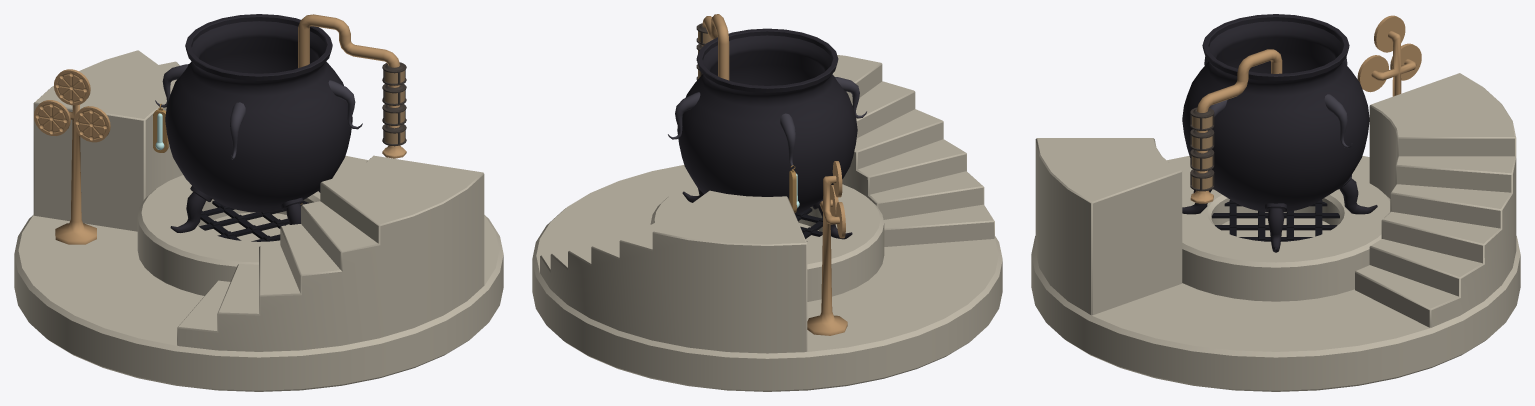
Rendered from Cauldron.fbx.
The picture shows the model from 3 angles, left to right: view 1: azimuth 30°, elevation 25°; view 2: azimuth 150°, elevation 25°; view 3: azimuth 270°, elevation 25°; orthographic projection. The views are drawn at different scales.
Visible parts, largest first — view 1: Stairs_1, BigPedestal, Cauldron, Stairs_2, SmallPedestal, Tube, Temperature_Circle_bottom, Temepature stand, Grid, Temperature_Circle_top, Rotate_1, Rotate_2 (+3 smaller); view 2: BigPedestal, Stairs_2, Cauldron, Stairs_1, SmallPedestal, Temepature stand, Tube, Temperature_Circle_bottom, Grid; view 3: BigPedestal, Stairs_2, Cauldron, Stairs_1, SmallPedestal, Grid, Tube, Temperature_Circle_bottom, Temepature stand, Temperature_Circle_top, Rotate_1, Rotate_3 (+2 smaller).
Boxes of the visible parts, box(x1,y1,x2,y2) form: Stairs_1: box(177, 155, 484, 351); BigPedestal: box(14, 155, 503, 391); Cauldron: box(155, 14, 362, 232); Stairs_2: box(33, 50, 182, 231); SmallPedestal: box(137, 175, 338, 295); Tube: box(298, 14, 406, 158); Temperature_Circle_bottom: box(34, 100, 110, 142); Temepature stand: box(55, 104, 96, 244); Grid: box(199, 200, 308, 241); Temperature_Circle_top: box(54, 69, 90, 105); Rotate_1: box(382, 62, 406, 85); Rotate_2: box(382, 84, 406, 105); BigPedestal: box(532, 165, 1002, 391); Stairs_2: box(540, 190, 807, 353); Cauldron: box(668, 28, 866, 239); Stairs_1: box(832, 55, 994, 246); SmallPedestal: box(650, 183, 884, 301); Temepature stand: box(807, 175, 847, 335); Tube: box(702, 14, 729, 80); Temperature_Circle_bottom: box(830, 185, 845, 238); Grid: box(795, 208, 822, 241); BigPedestal: box(1031, 156, 1520, 391); Stairs_2: box(1355, 73, 1516, 327); Cauldron: box(1182, 14, 1377, 252); Stairs_1: box(1035, 138, 1182, 315); SmallPedestal: box(1182, 175, 1390, 301); Grid: box(1212, 199, 1339, 241); Tube: box(1190, 49, 1282, 203); Temperature_Circle_bottom: box(1357, 43, 1421, 92); Temepature stand: box(1371, 31, 1416, 96); Temperature_Circle_top: box(1374, 15, 1405, 52); Rotate_1: box(1190, 107, 1214, 130); Rotate_3: box(1190, 149, 1214, 171).
Size of the model in its own units: 411 by 245 by 411.
